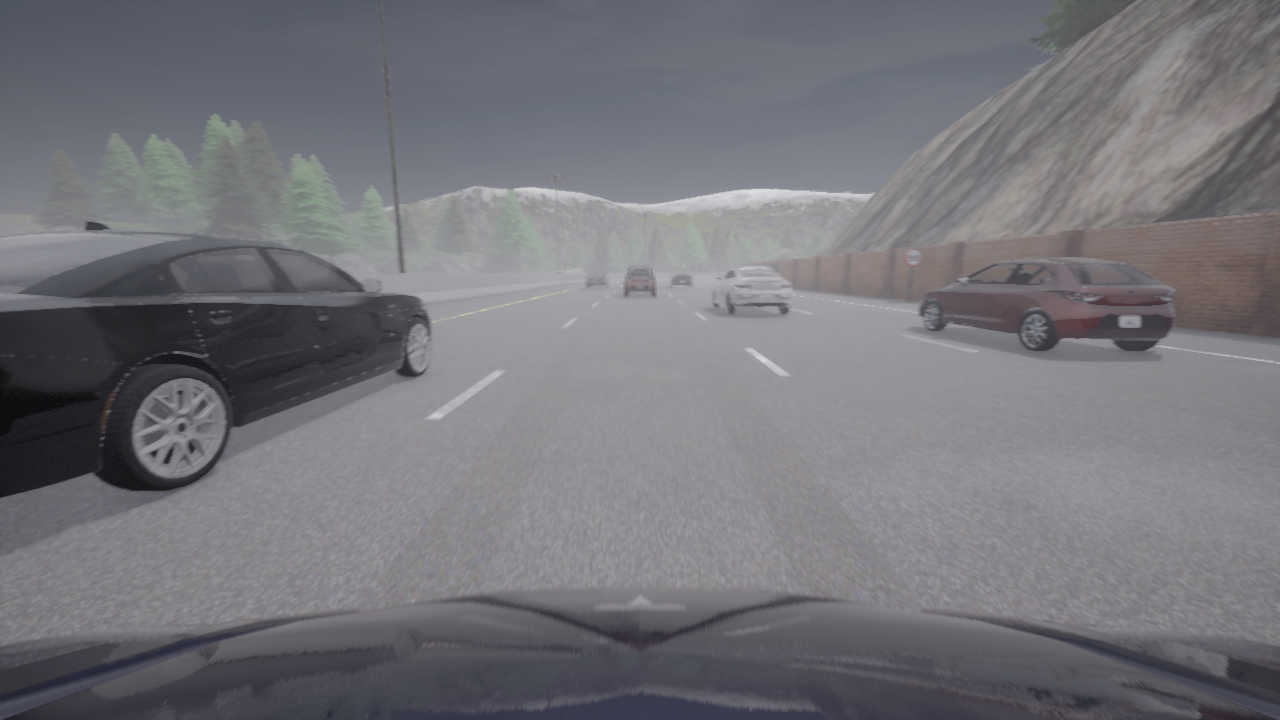cyclist: (0, 588, 1279, 719), (0, 220, 431, 498), (918, 258, 1174, 351), (712, 266, 791, 314), (624, 269, 655, 296), (668, 268, 692, 287), (585, 271, 610, 288), (626, 263, 653, 275)
